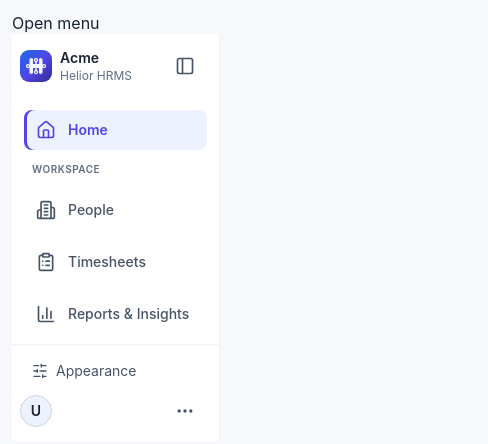
Test: Sidebar › exposes only self-service routes backed by exact permissions
The image size is (488, 444).
Hover over the link "Timesheets" at (91, 262), box [36,252,146,272]
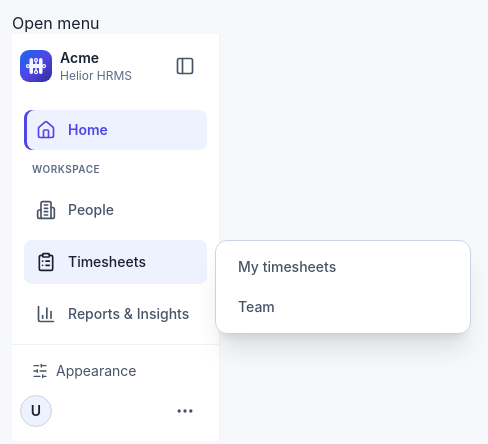
Expected: the link "My timesheets" is shown, [238,258,336,275]
